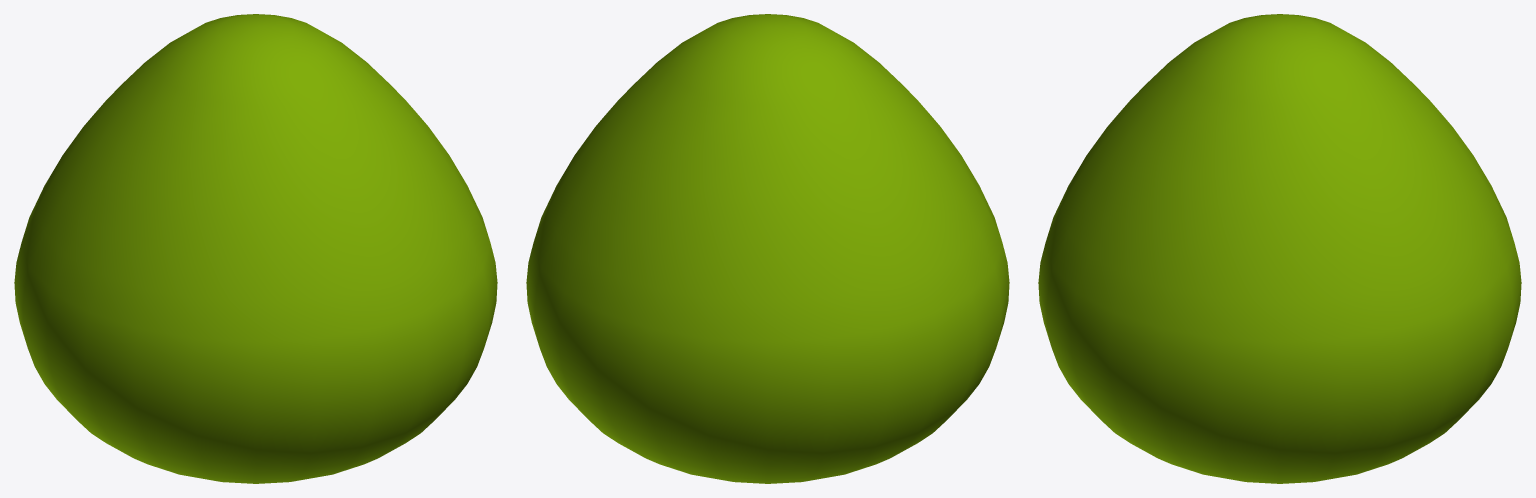
The model's file is HPEo150cm.glb.
The picture shows the model from 3 angles, left to right: view 1: azimuth 30°, elevation 25°; view 2: azimuth 150°, elevation 25°; view 3: azimuth 270°, elevation 25°; orthographic projection.
Parts seen in each view (by area): view 1: HPEo150cm; view 2: HPEo150cm; view 3: HPEo150cm.
Boxes of the visible parts, bbox=[...] form: HPEo150cm: bbox=[14, 14, 497, 483]; HPEo150cm: bbox=[526, 14, 1009, 483]; HPEo150cm: bbox=[1038, 14, 1521, 483].
Size of the model in its own units: 1.5 by 1.5 by 1.5.
